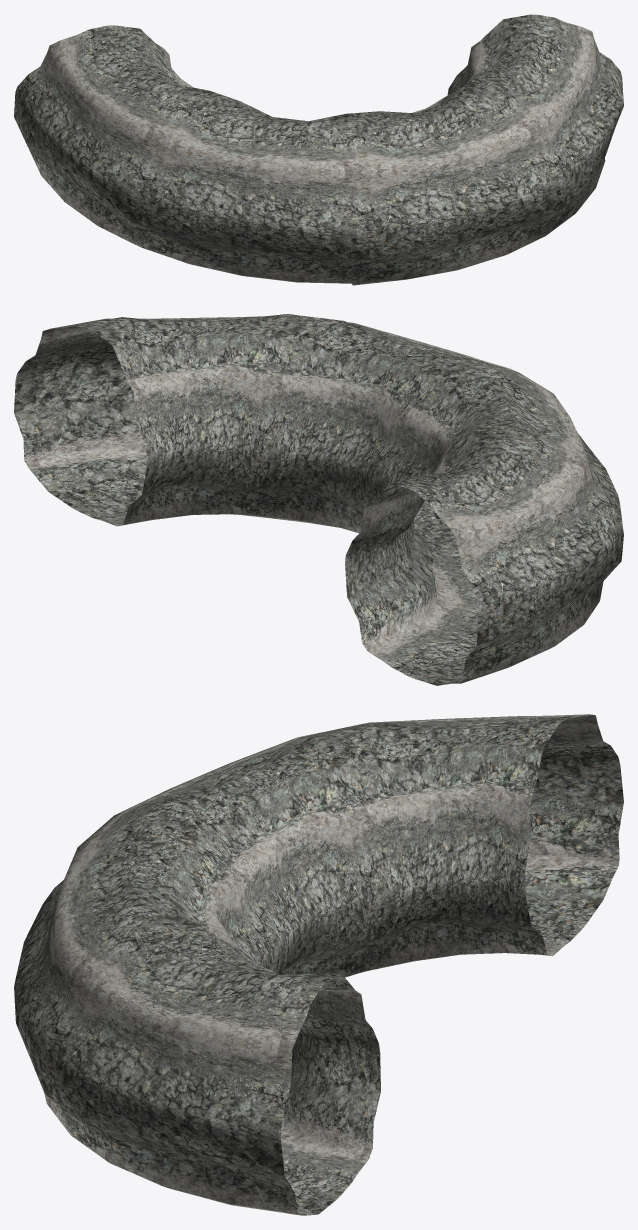
The model's file is CaveFormation01.DAE.
3 views of the same model, one above another, from view 1: azimuth 30°, elevation 25°; view 2: azimuth 150°, elevation 25°; view 3: azimuth 270°, elevation 25° (orthographic). The views are drawn at different scales.
Visible parts, largest first — view 1: mansionbase_default; view 2: mansionbase_default; view 3: mansionbase_default.
Boxes of the visible parts, x1,y1,x2,y2 form: mansionbase_default: (14,14,623,285); mansionbase_default: (14,314,623,685); mansionbase_default: (14,714,623,1215).
Bounding box in the file's own units: 18.89 × 5.95 × 13.56.
